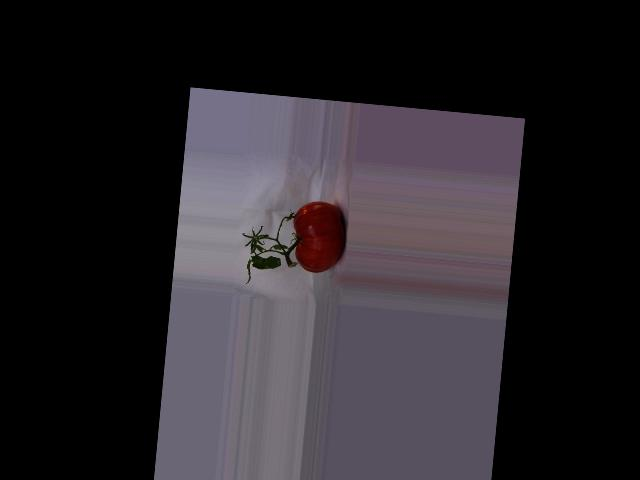tomato: (289, 198, 348, 275)
